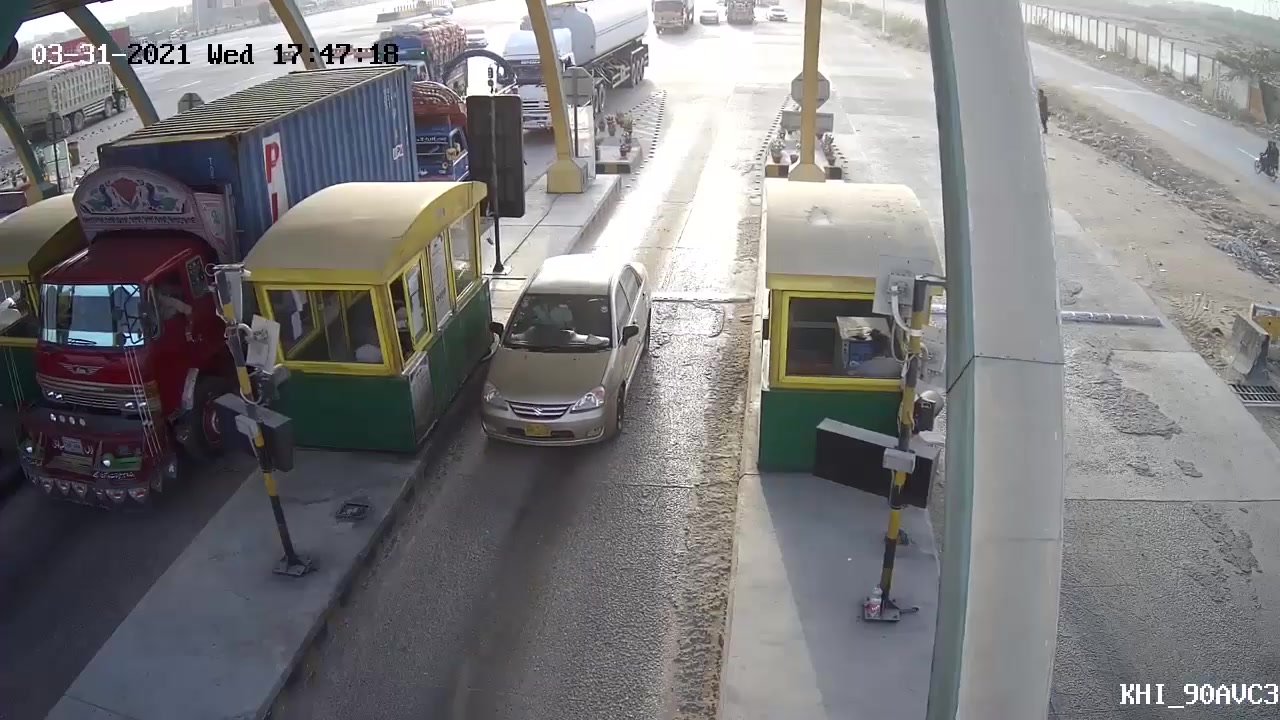F1: (462, 245, 661, 465)
